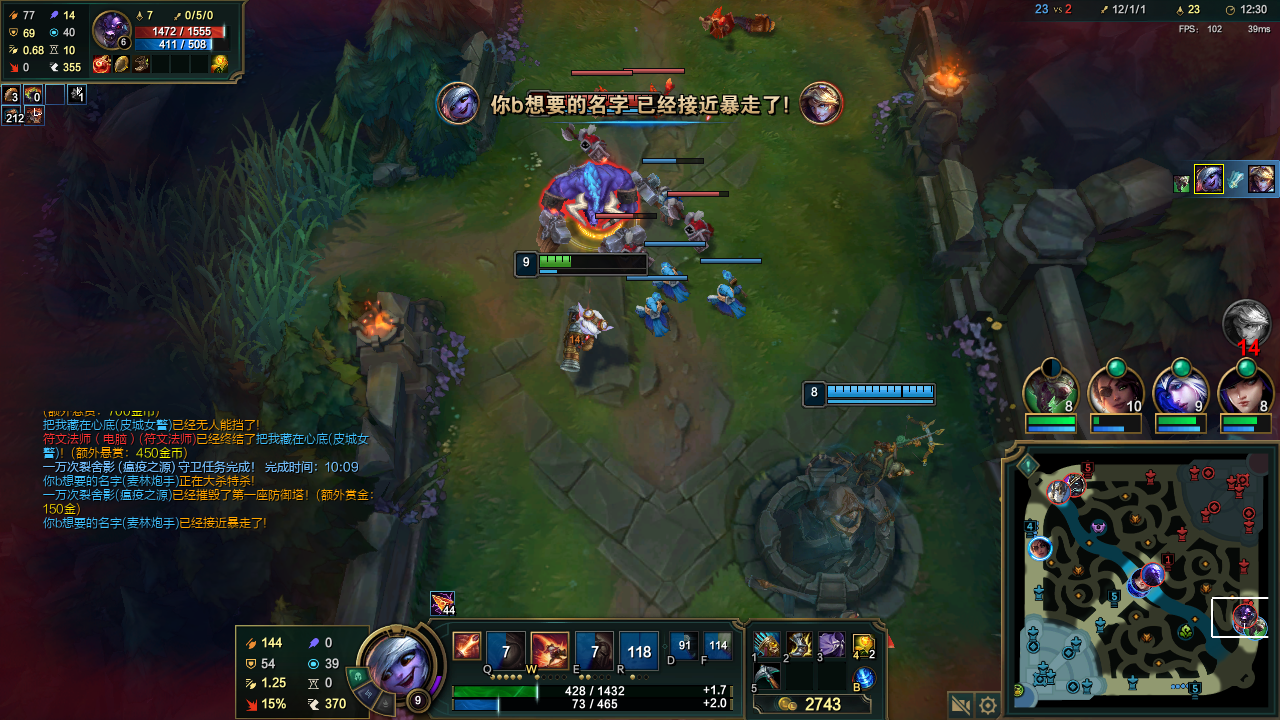DFXB: (645, 78, 693, 128), (693, 5, 747, 46), (674, 201, 712, 252), (558, 128, 613, 163)
WFXB: (701, 273, 754, 325), (634, 294, 685, 347), (654, 180, 697, 233), (656, 262, 691, 300)
Yita: (1186, 675, 1211, 701)
